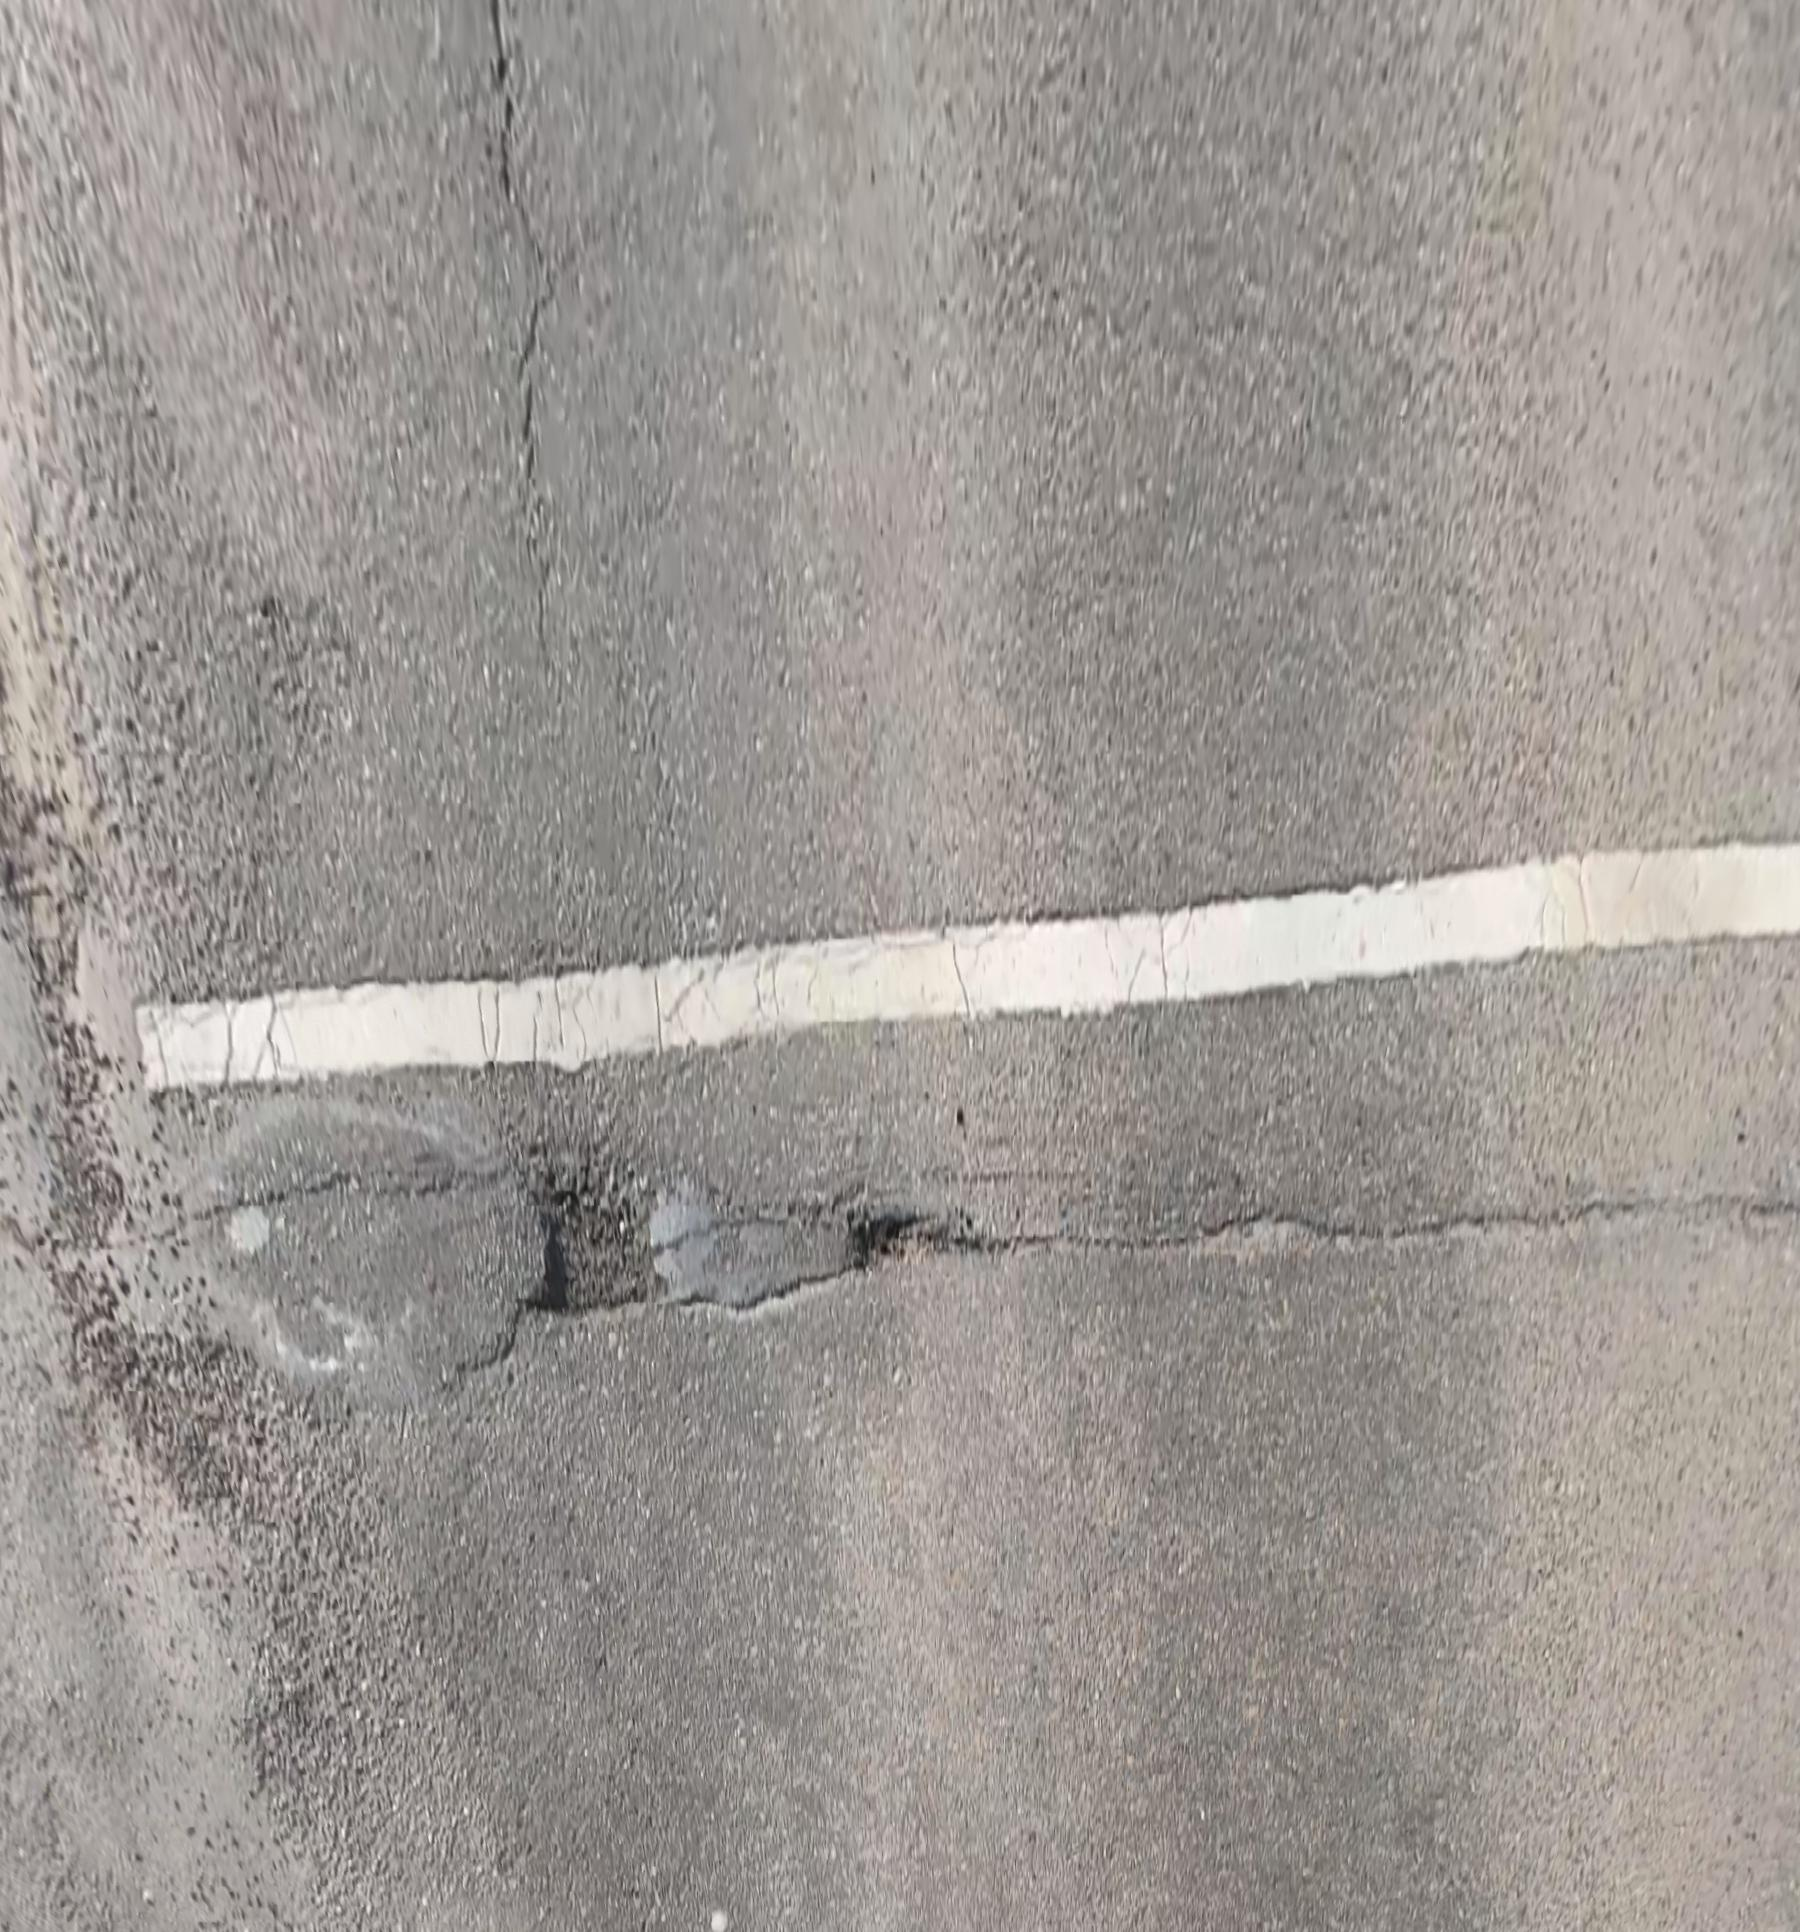pothole: (521, 1176, 680, 1316), (839, 1205, 993, 1279)
pothole_patch_poor: (103, 1095, 546, 1408), (646, 1177, 870, 1309)
